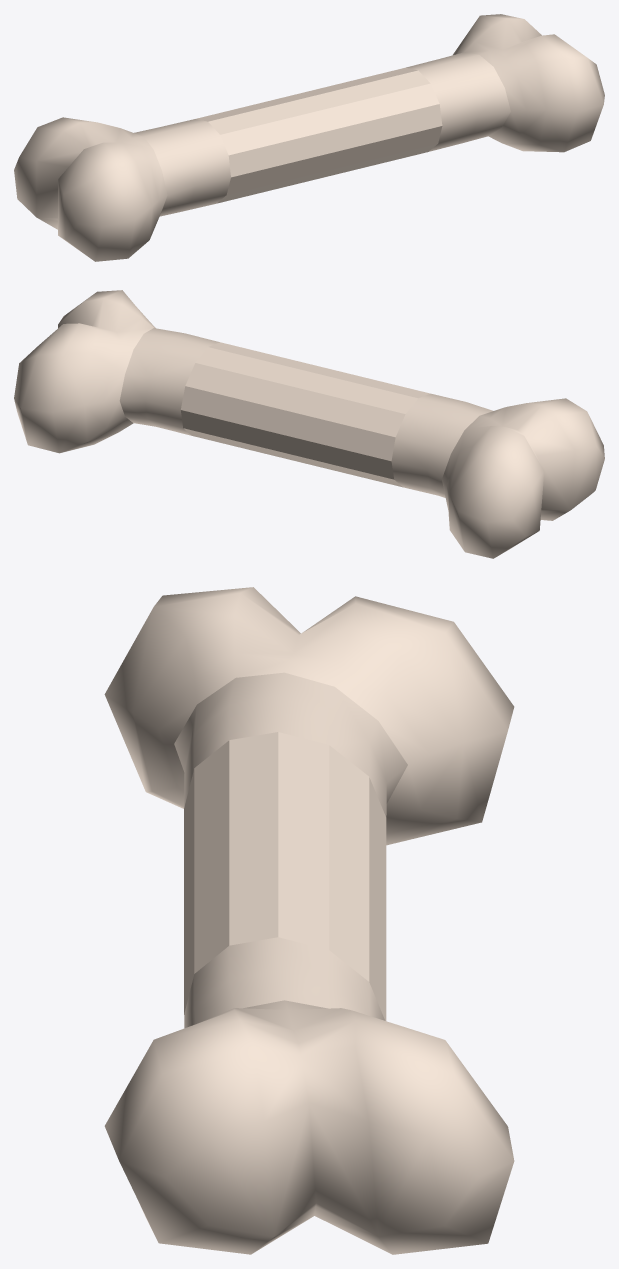
The model's file is bone01.fbx.
3 views of the same model, one above another, from view 1: azimuth 30°, elevation 25°; view 2: azimuth 150°, elevation 25°; view 3: azimuth 270°, elevation 25° (orthographic). The views are drawn at different scales.
Parts seen in each view (by area): view 1: bone01; view 2: bone01; view 3: bone01.
Part boxes in pixels (bbox=[...]): bone01: bbox=[14, 14, 604, 261]; bone01: bbox=[14, 290, 604, 558]; bone01: bbox=[104, 587, 514, 1254].
Size of the model in its own units: 29.96 by 6.28 by 9.97.
Materials: 1 (1 with a texture image).
